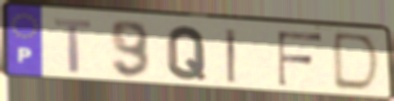9: (108, 18, 153, 82)
D: (330, 31, 384, 95)
F: (275, 30, 325, 88)
I: (223, 26, 240, 85)
Q: (165, 24, 209, 82)
T: (51, 16, 94, 75)
